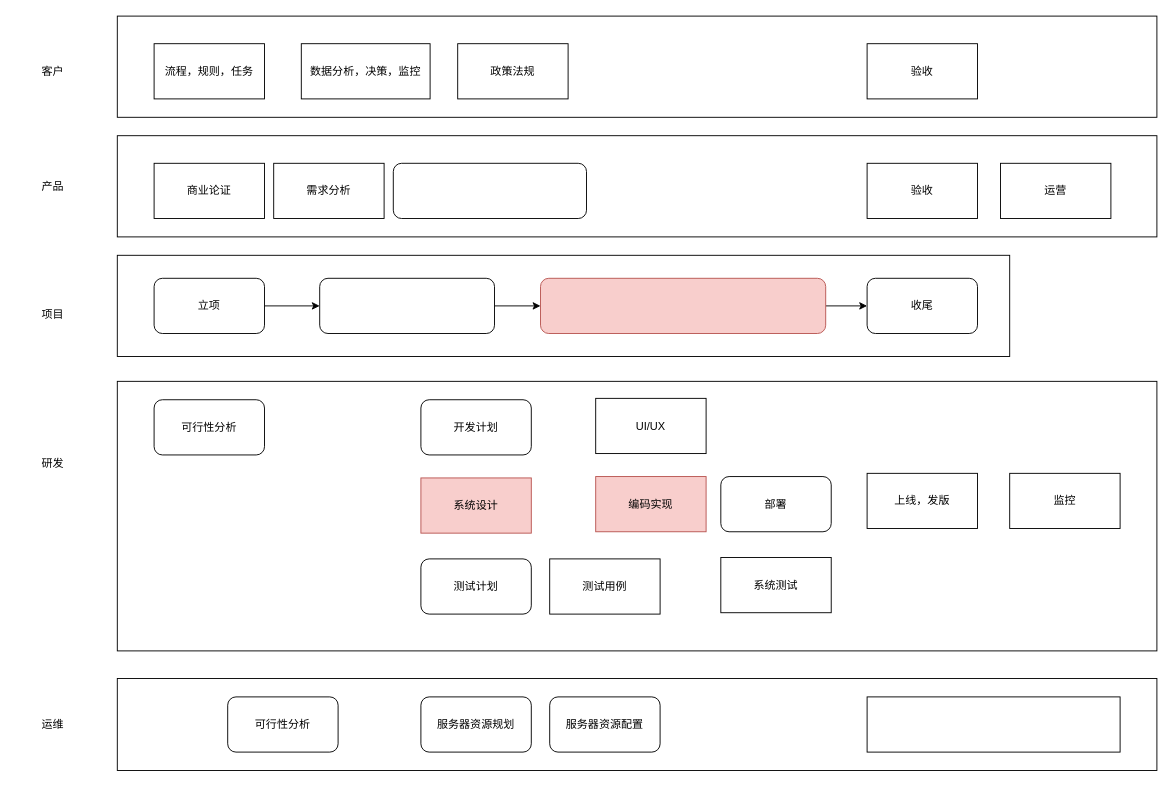
Some shapes in this 1173 by 787 pixel diagram are drawn without their labels. Each missing label, with the centre of its shape:
"定义，设计" belongs at (x=489, y=190).
"巡检" belongs at (x=993, y=724).
"执行，监控" belongs at (x=683, y=305).
"计划" belongs at (x=406, y=305).
